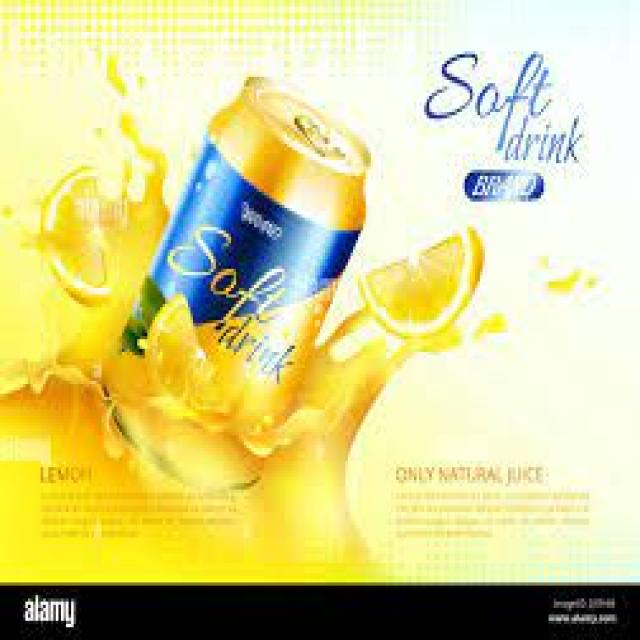Cans: (124, 64, 376, 419)
